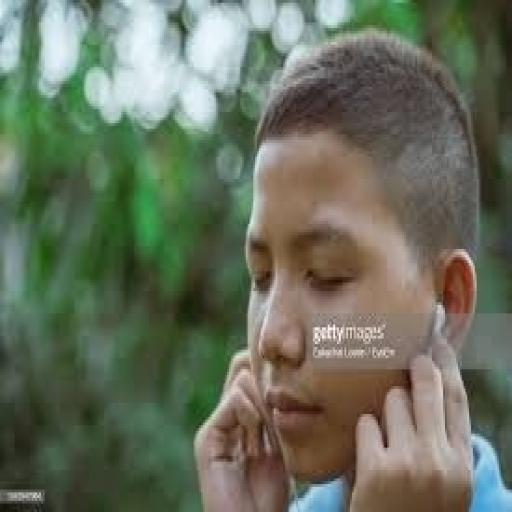listening_to_music: (190, 25, 510, 509)
